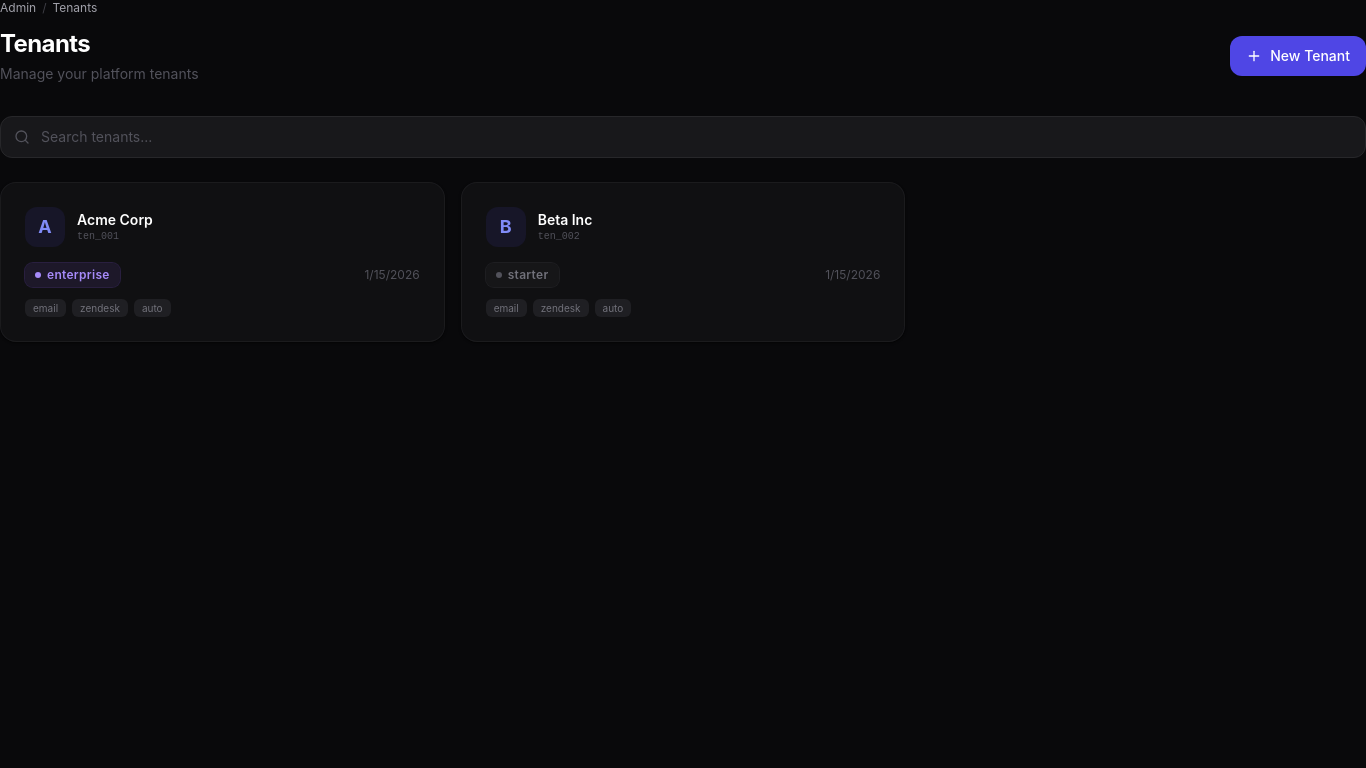
Test: Tenants Page › create tenant modal validates required fields
Expected: the heading "Acme Corp" is shown, [77,211,153,228]
Click the button "New Tenant".
click(1298, 56)  # box [1230,36,1365,76]
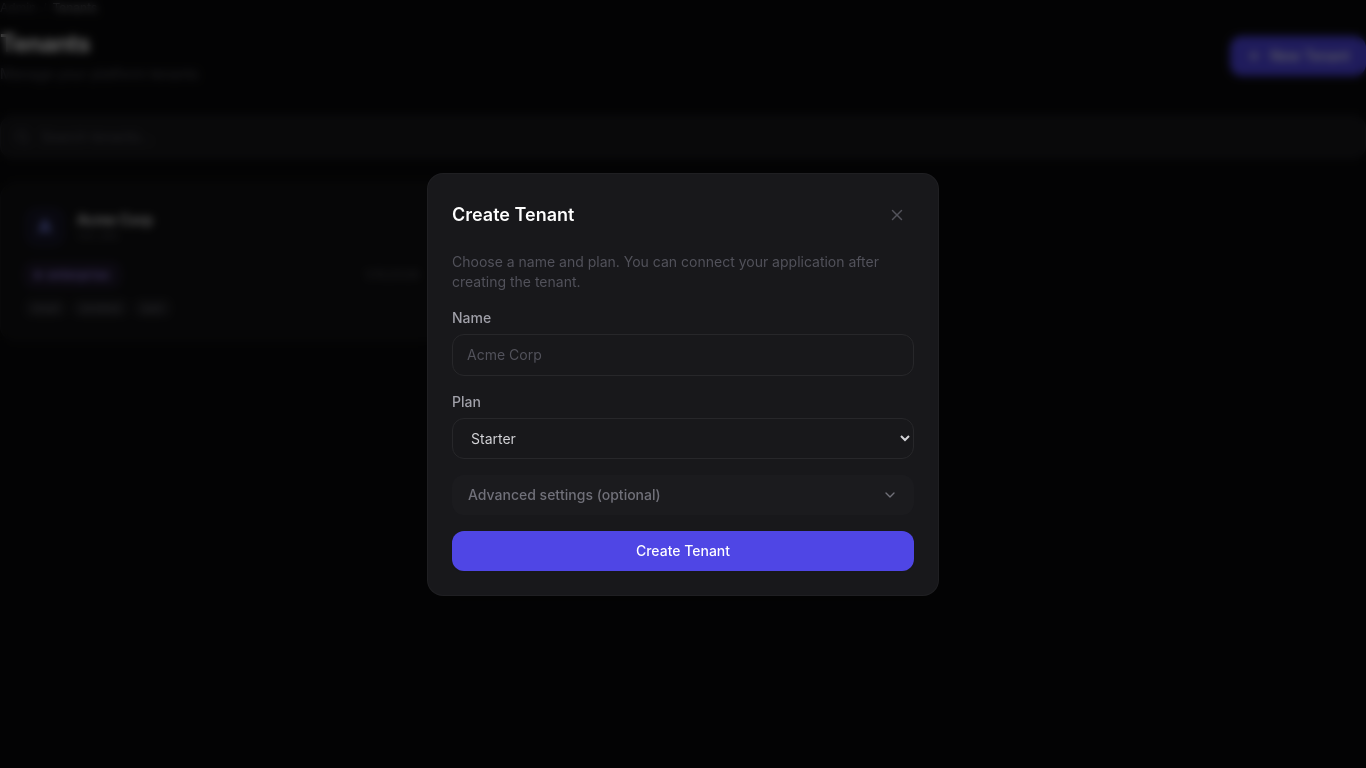
Result: the dialog with test id "create-tenant-modal" is shown
// Submit empty form
Click the button "Create Tenant".
click(683, 550)  # box [452,530,914,570]
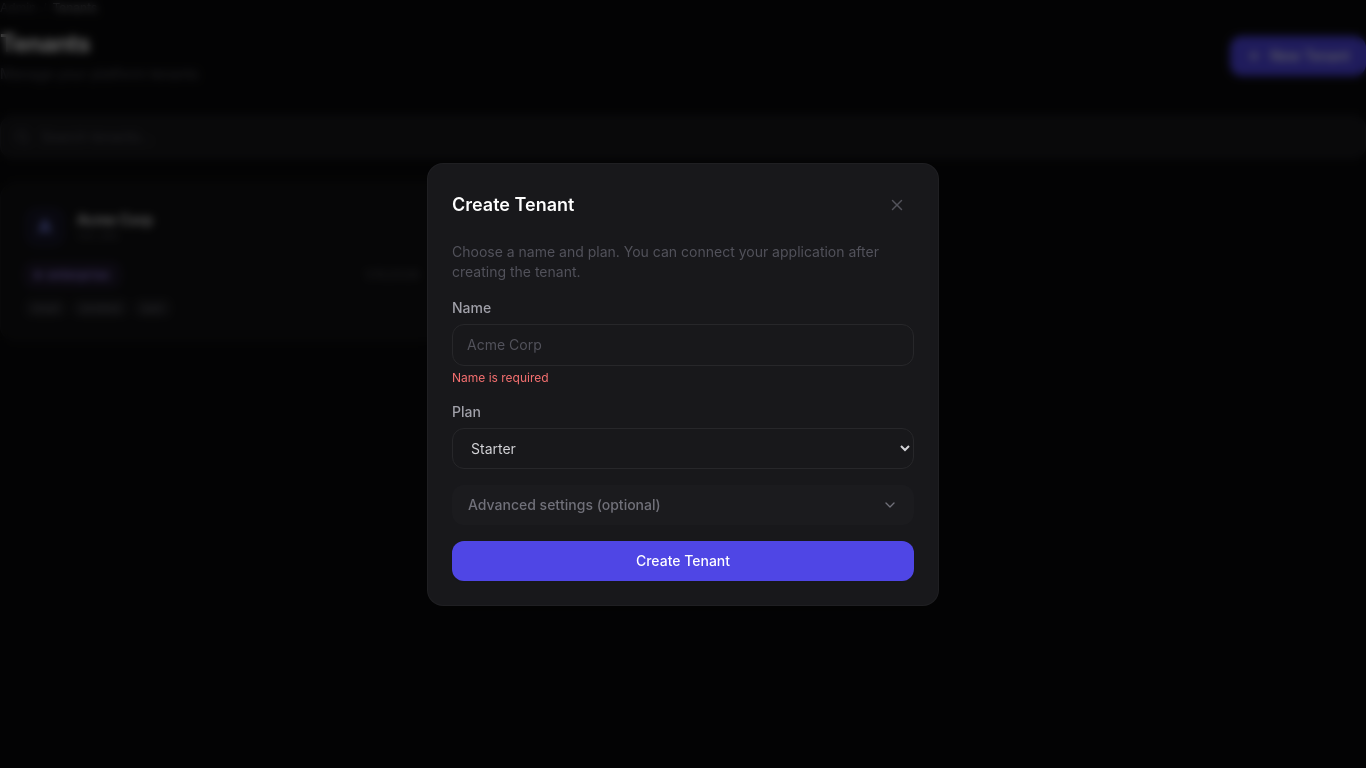
Result: the text "Name is required" is shown at [452,370,549,384]
